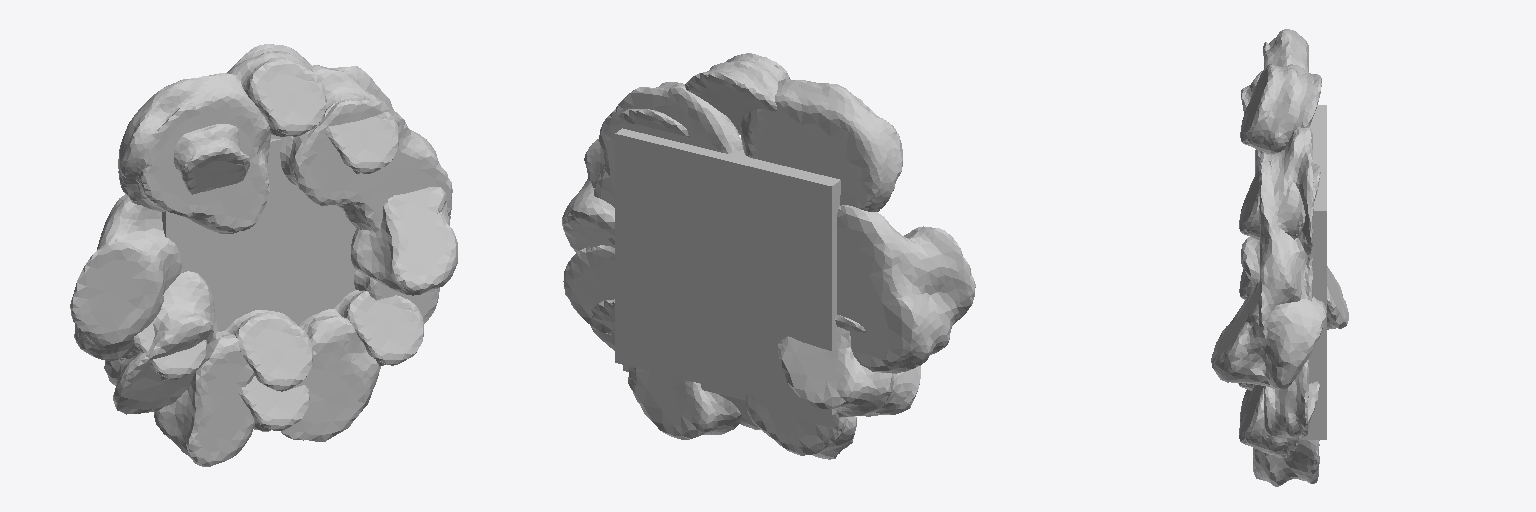
Rendered from rocks1.obj.
3 views of the same model, side by side, from view 1: azimuth 30°, elevation 25°; view 2: azimuth 150°, elevation 25°; view 3: azimuth 270°, elevation 25° (orthographic).
Visible parts, largest first — view 1: Cube, ShortFlatRock_A, ShortFlatRock_B, ShortFlatRock_C, ShortFlatRock_E.001, ShortFlatRock_E, ShortFlatRock_D.001, ShortFlatRock_D, ShortFlatRock_F.004, ShortFlatRock_F.007, ShortFlatRock_F.003, ShortFlatRock_F.002 (+4 smaller); view 2: Cube, ShortFlatRock_C, ShortFlatRock_A, ShortFlatRock_D.001, ShortFlatRock_B, ShortFlatRock_D, ShortFlatRock_F.004, ShortFlatRock_E, ShortFlatRock_F, ShortFlatRock_E.001, ShortFlatRock_F.006, ShortFlatRock_F.003; view 3: ShortFlatRock_B, ShortFlatRock_E.001, ShortFlatRock_F.004, Cube, ShortFlatRock_F, ShortFlatRock_F.006, ShortFlatRock_F.003, ShortFlatRock_D, ShortFlatRock_D.001, ShortFlatRock_A.
Boxes of the visible parts, x1,y1,x2,y2 form: Cube: [162, 139, 356, 331]; ShortFlatRock_A: [118, 73, 270, 233]; ShortFlatRock_B: [271, 65, 452, 232]; ShortFlatRock_C: [70, 194, 181, 361]; ShortFlatRock_E.001: [351, 187, 457, 295]; ShortFlatRock_E: [154, 331, 254, 466]; ShortFlatRock_D.001: [104, 271, 221, 414]; ShortFlatRock_D: [281, 309, 380, 441]; ShortFlatRock_F.004: [227, 44, 326, 136]; ShortFlatRock_F.007: [225, 310, 312, 391]; ShortFlatRock_F.003: [334, 290, 423, 365]; ShortFlatRock_F.002: [174, 124, 249, 194]; Cube: [615, 128, 840, 415]; ShortFlatRock_C: [837, 205, 975, 373]; ShortFlatRock_A: [741, 79, 902, 211]; ShortFlatRock_D.001: [777, 327, 920, 416]; ShortFlatRock_B: [584, 82, 742, 245]; ShortFlatRock_D: [628, 367, 741, 439]; ShortFlatRock_F.004: [685, 53, 789, 134]; ShortFlatRock_E: [746, 395, 856, 459]; ShortFlatRock_F: [563, 245, 614, 334]; ShortFlatRock_E.001: [562, 176, 614, 252]; ShortFlatRock_F.006: [618, 109, 689, 136]; ShortFlatRock_F.003: [590, 299, 614, 350]; ShortFlatRock_B: [1259, 127, 1313, 349]; ShortFlatRock_E.001: [1211, 281, 1326, 390]; ShortFlatRock_F.004: [1240, 64, 1321, 153]; Cube: [1301, 105, 1326, 439]; ShortFlatRock_F: [1264, 359, 1308, 437]; ShortFlatRock_F.006: [1239, 153, 1320, 240]; ShortFlatRock_F.003: [1239, 381, 1319, 457]; ShortFlatRock_D: [1253, 384, 1319, 486]; ShortFlatRock_D.001: [1241, 237, 1348, 329]; ShortFlatRock_A: [1263, 29, 1308, 153].
Size of the model in its own units: 0.1314 by 0.1244 by 0.0399.